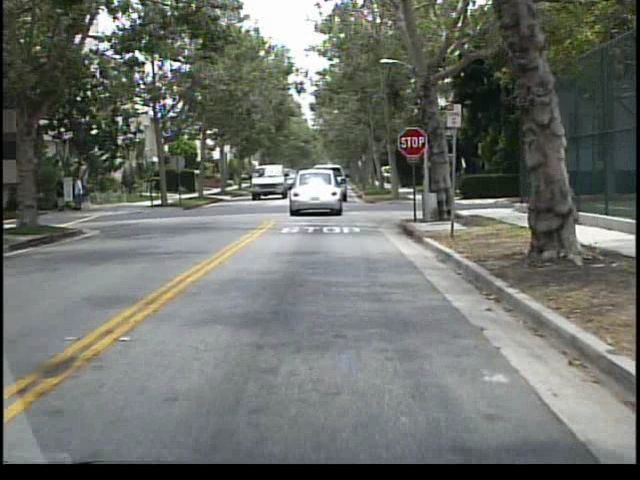person: (74, 167, 89, 213), (56, 168, 71, 213)
